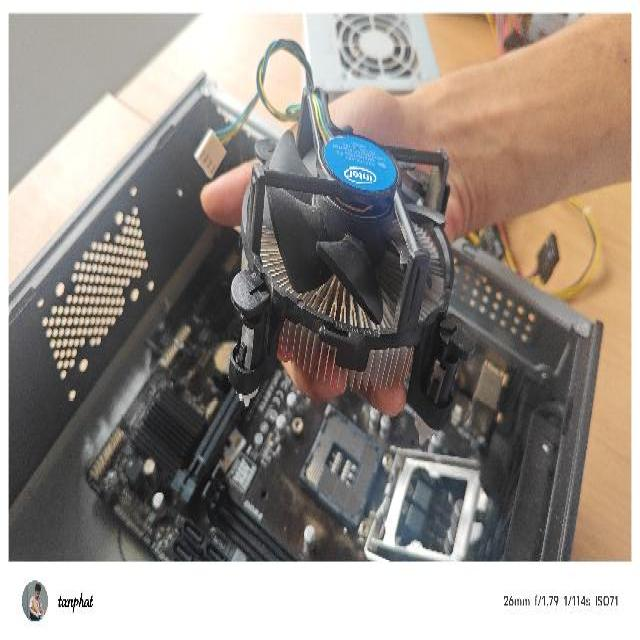CPU_Fan: (206, 38, 479, 452)
